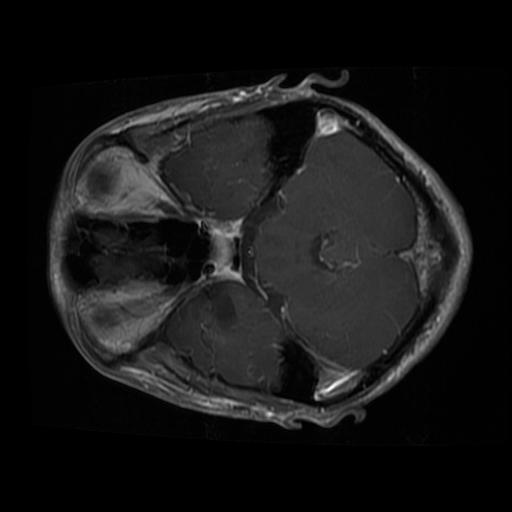glioma: (179, 285, 235, 332)
